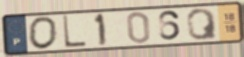0: (125, 11, 152, 45)
1: (92, 12, 110, 48)
6: (158, 9, 183, 43)
L: (61, 15, 88, 50)
O: (26, 15, 59, 51)
Q: (186, 7, 220, 42)
